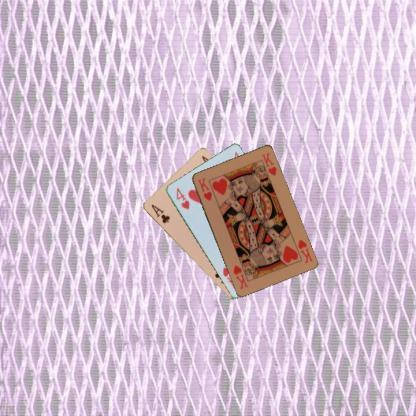4h: (173, 186, 191, 210)
Ac: (148, 201, 172, 224)
Kh: (194, 175, 214, 202), (295, 236, 314, 264)
